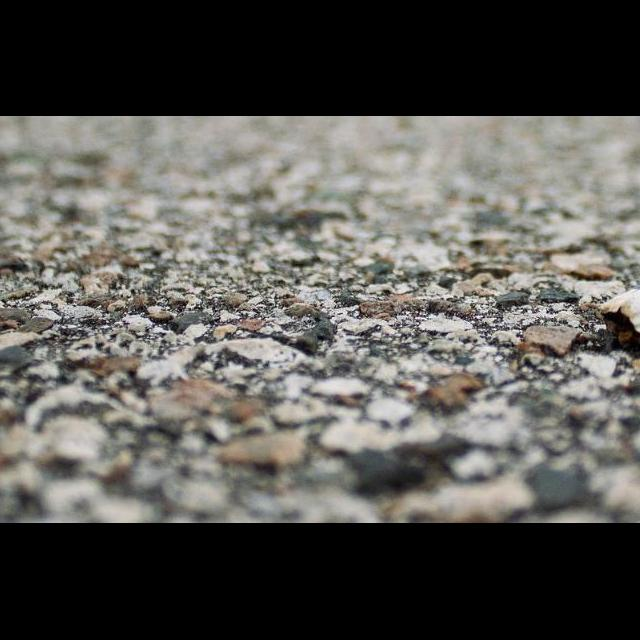Cigarette Butt: (597, 245, 640, 354)
